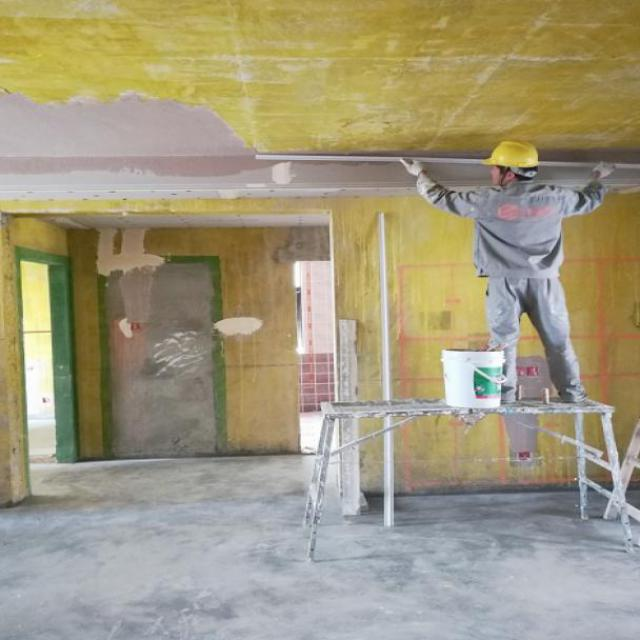gloves: (394, 150, 426, 177), (583, 159, 617, 183)
helmet: (483, 142, 542, 189)
